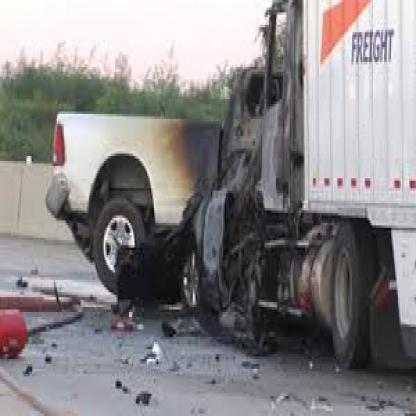accident: (45, 0, 416, 371)
